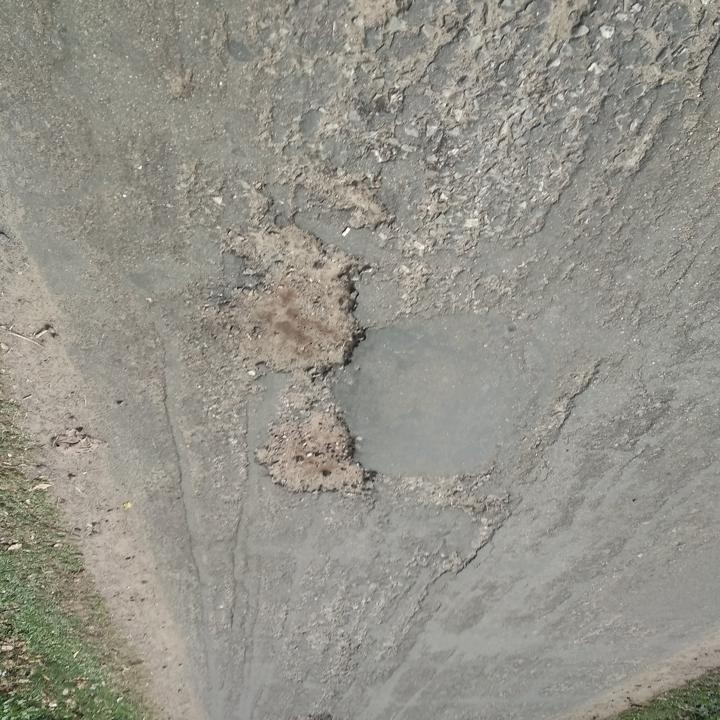pothole: (209, 214, 372, 380), (250, 392, 382, 503)
